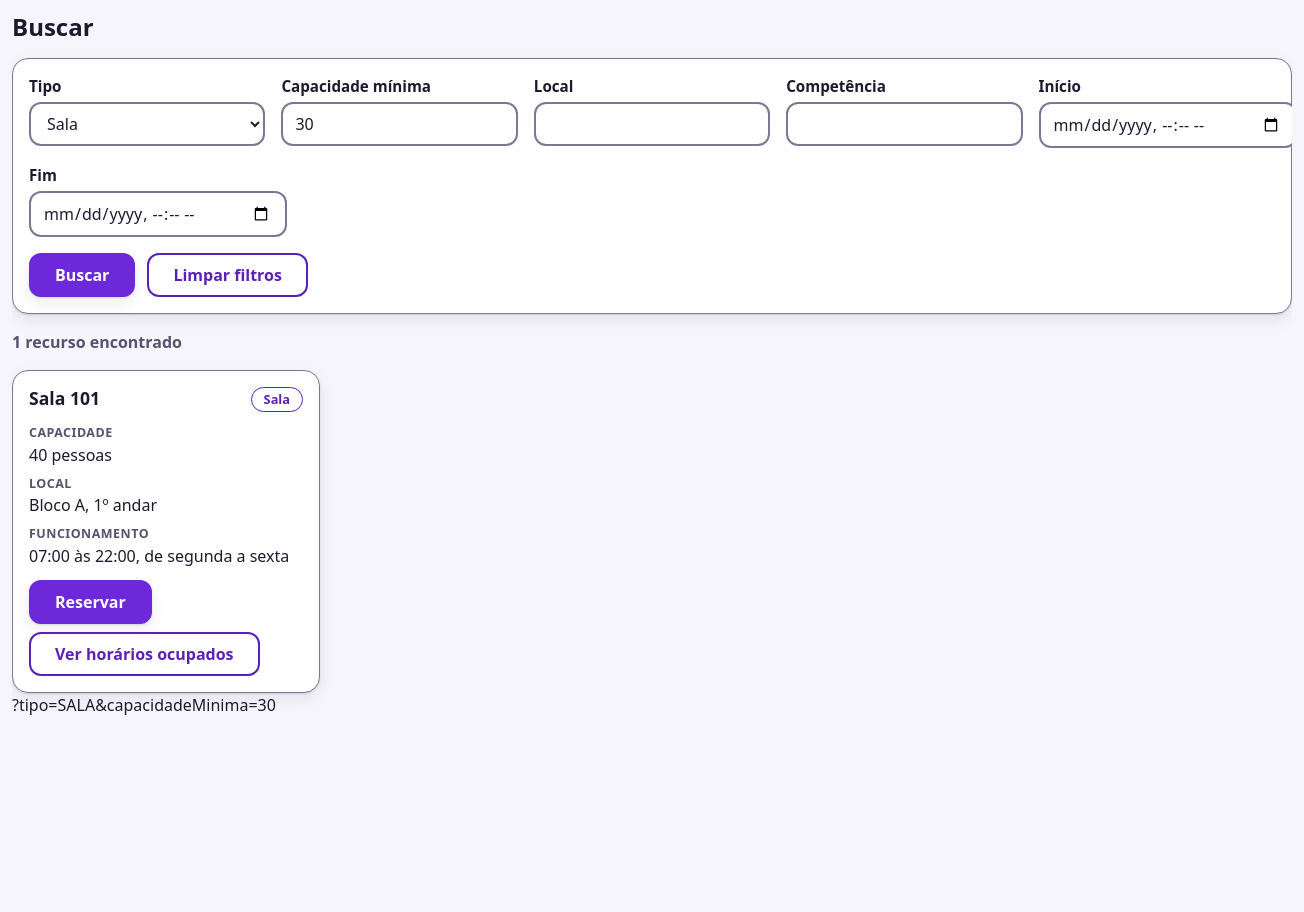
Scenario: PaginaDeBusca: filtros › Limpar filtros esvazia os campos e volta a listar tudo
The width and height of the screenshot is (1304, 912).
Expected: the text "1 recurso encontrado" is shown, [12,331,182,353]
Click the button "Limpar filtros" at (228, 275), box [147,253,308,297]
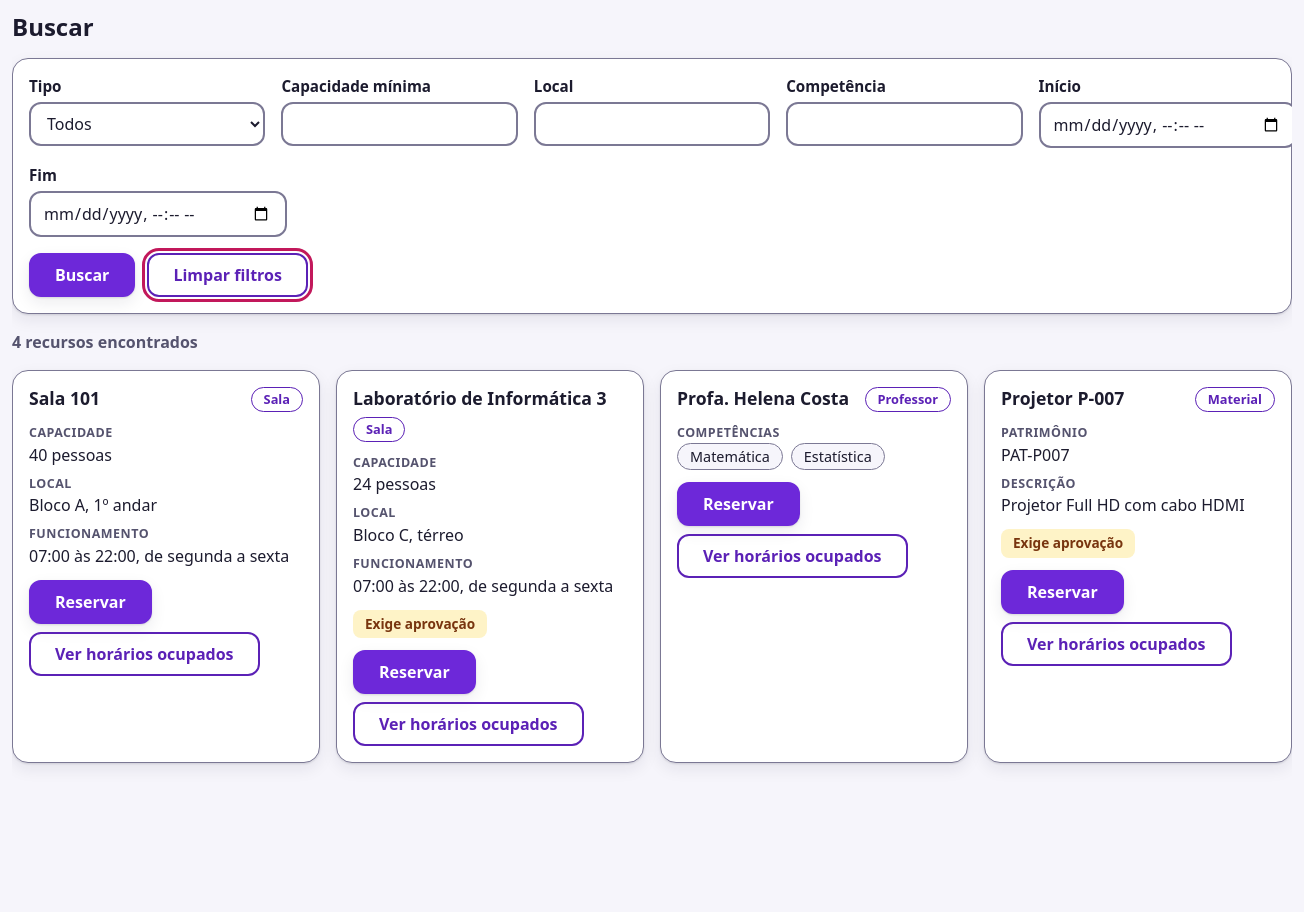
Result: the text "4 recursos encontrados" is shown at [12,331,198,353]
Result: the number field labelled "Capacidade mínima" is not empty at [281,102,518,146]
Result: the dropdown labelled "Tipo" shows "Todos" at [29,102,265,146]
